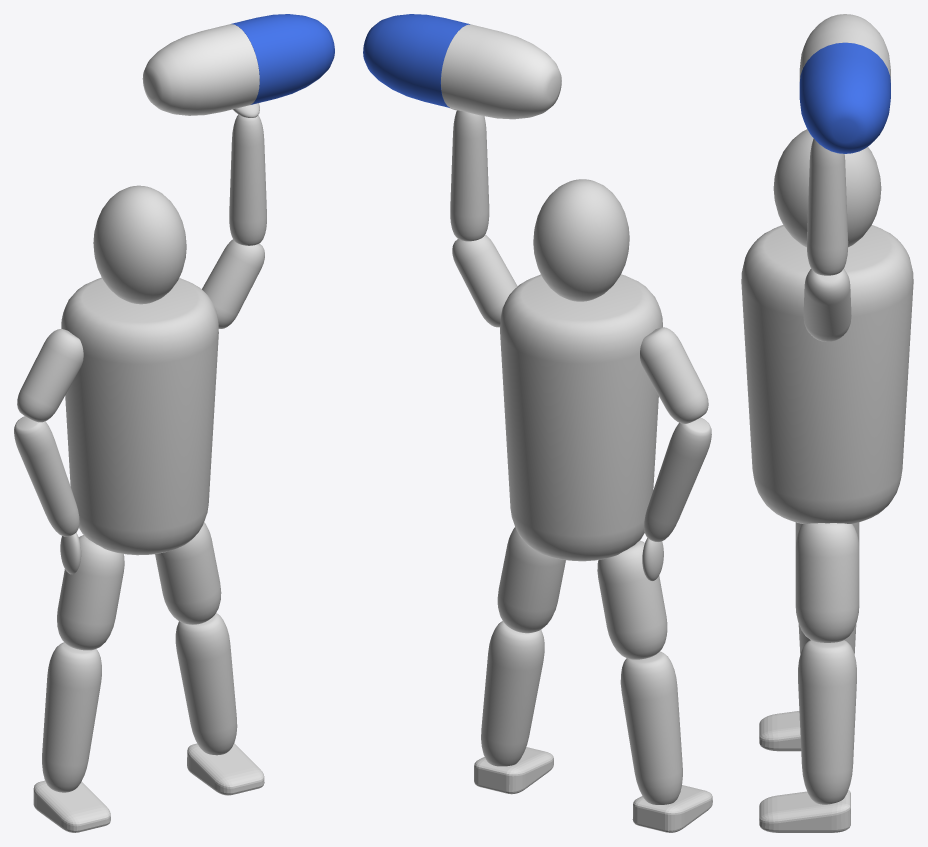
The model's file is Doll1.fbx.
The picture shows the model from 3 angles, left to right: view 1: azimuth 30°, elevation 25°; view 2: azimuth 150°, elevation 25°; view 3: azimuth 270°, elevation 25°; orthographic projection. The views are drawn at different scales.
Parts seen in each view (by area): view 1: 円柱.016, 円柱.021, 球.003, 円柱.015, 円柱.013, 円柱.014, 円柱.012, 円柱.018, 円柱.020, 円柱.019, 円柱.017, 立方体.003 (+2 smaller); view 2: 円柱.016, 円柱.021, 球.003, 円柱.015, 円柱.013, 円柱.014, 円柱.012, 円柱.018, 円柱.020, 円柱.019, 円柱.017, 立方体.003 (+2 smaller); view 3: 円柱.016, 円柱.021, 円柱.013, 円柱.012, 球.003, 円柱.018, 立方体.002, 円柱.017, 立方体.003.
Part boxes in pixels (bbox=[...]): 円柱.016: bbox=[61, 277, 218, 555]; 円柱.021: bbox=[142, 14, 334, 115]; 球.003: bbox=[93, 185, 186, 304]; 円柱.015: bbox=[42, 642, 101, 792]; 円柱.013: bbox=[175, 613, 237, 755]; 円柱.014: bbox=[57, 535, 124, 650]; 円柱.012: bbox=[155, 522, 221, 624]; 円柱.018: bbox=[229, 114, 266, 245]; 円柱.020: bbox=[14, 416, 79, 536]; 円柱.019: bbox=[17, 329, 83, 422]; 円柱.017: bbox=[202, 239, 264, 328]; 立方体.003: bbox=[33, 780, 110, 832]; 円柱.016: bbox=[500, 274, 662, 561]; 円柱.021: bbox=[363, 14, 561, 119]; 球.003: bbox=[533, 179, 629, 301]; 円柱.015: bbox=[620, 651, 682, 804]; 円柱.013: bbox=[481, 621, 544, 766]; 円柱.014: bbox=[597, 540, 667, 659]; 円柱.012: bbox=[497, 527, 565, 633]; 円柱.018: bbox=[450, 110, 489, 241]; 円柱.020: bbox=[644, 417, 711, 541]; 円柱.019: bbox=[640, 327, 708, 423]; 円柱.017: bbox=[452, 234, 517, 327]; 立方体.003: bbox=[632, 785, 712, 832]; 円柱.016: bbox=[741, 225, 913, 523]; 円柱.021: bbox=[799, 14, 890, 153]; 円柱.013: bbox=[798, 640, 856, 804]; 円柱.012: bbox=[795, 523, 859, 642]; 球.003: bbox=[773, 129, 881, 247]; 円柱.018: bbox=[806, 138, 848, 275]; 立方体.002: bbox=[759, 790, 850, 832]; 円柱.017: bbox=[803, 269, 851, 341]; 立方体.003: bbox=[759, 711, 801, 751].
Bounding box in the file's own units: 0.8332 × 1.83 × 0.3572.
